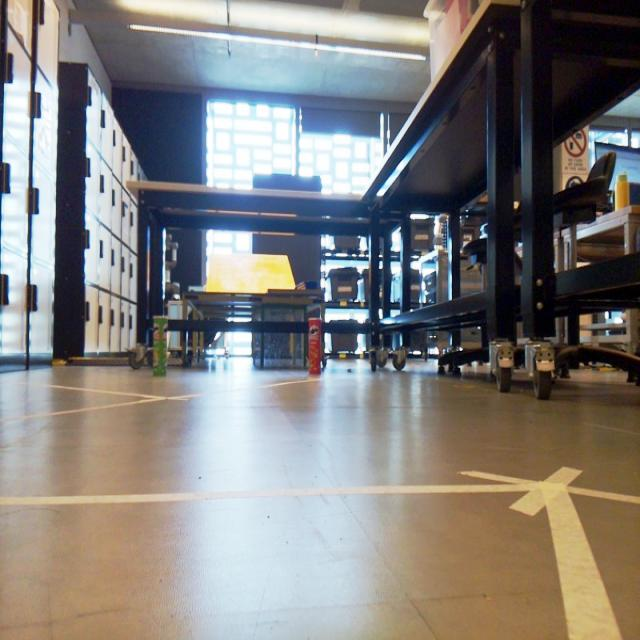greenpringles: (145, 301, 180, 385)
redpringles: (303, 304, 334, 389)
